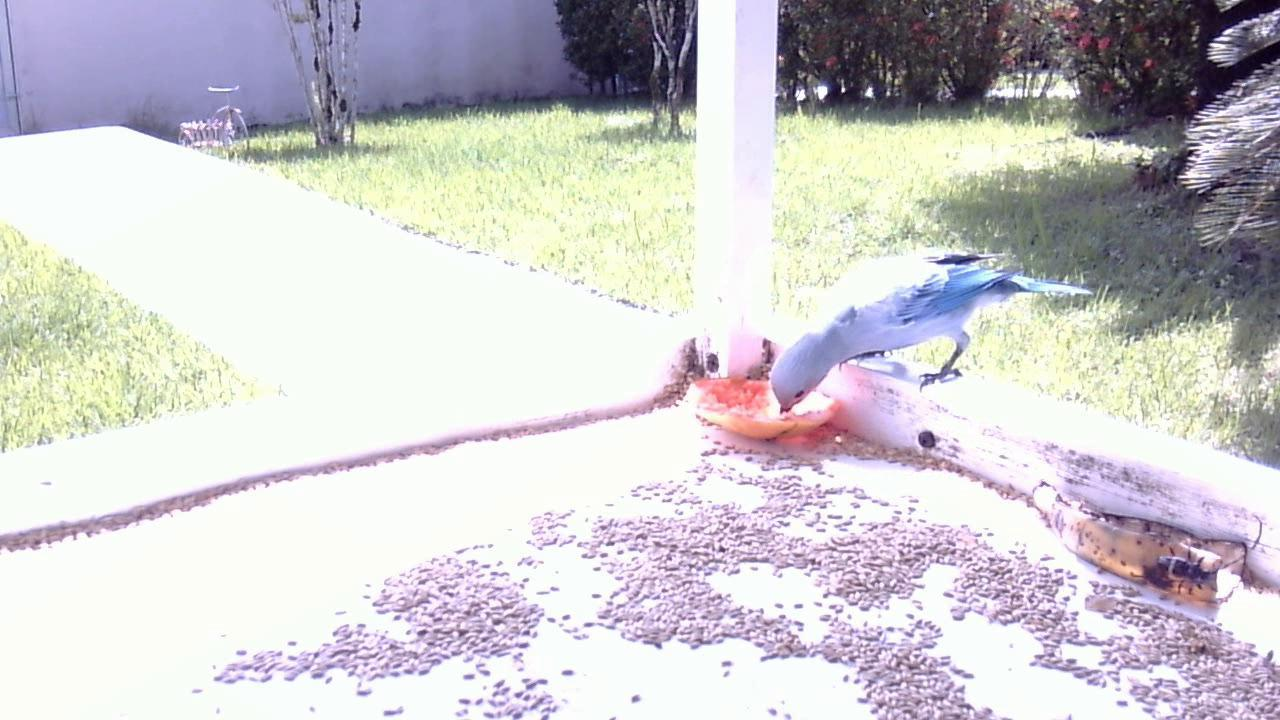sanhaco_da_amazonia: (764, 244, 1089, 417)
